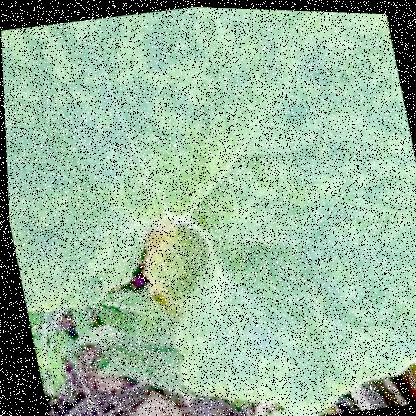CassavaMosaicDisease: (154, 4, 415, 261), (144, 202, 415, 411), (0, 13, 197, 244), (6, 163, 157, 316)
